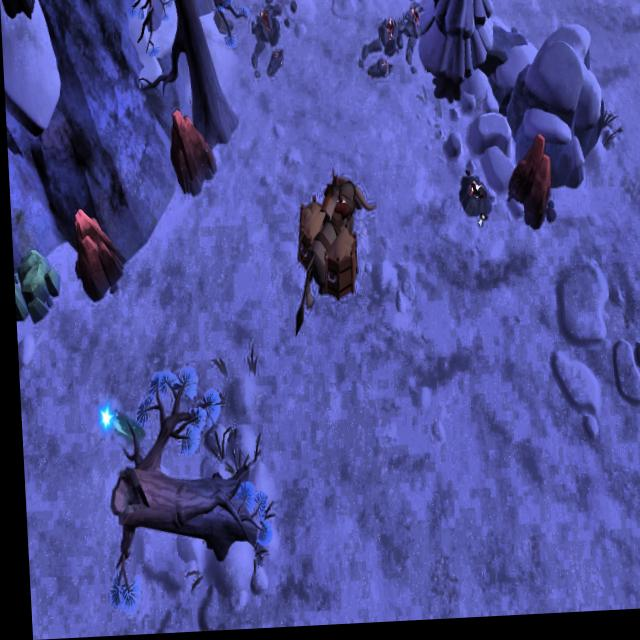rock_t3: (10, 248, 60, 334)
rock_t5: (65, 206, 123, 298), (503, 136, 554, 238), (165, 106, 218, 201)
